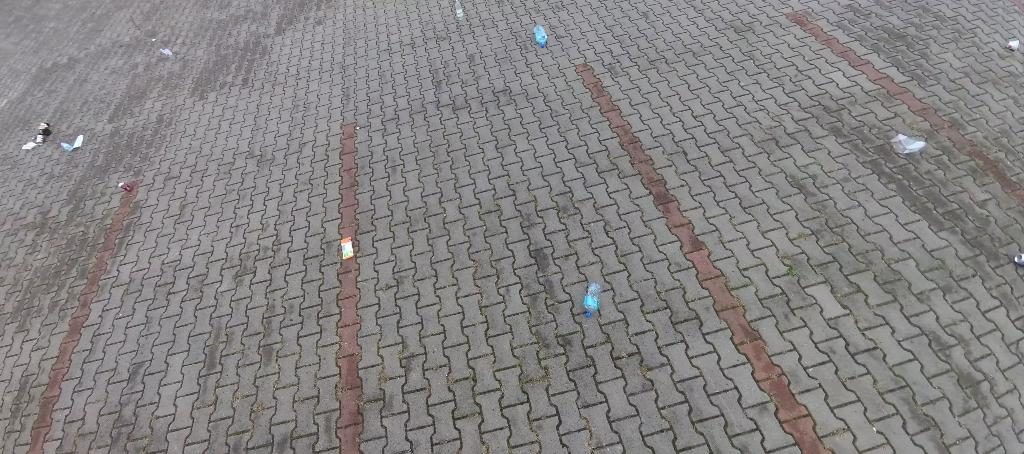garbage: (891, 131, 928, 154), (585, 281, 603, 322), (59, 134, 83, 154), (340, 239, 359, 261), (531, 25, 549, 48)
